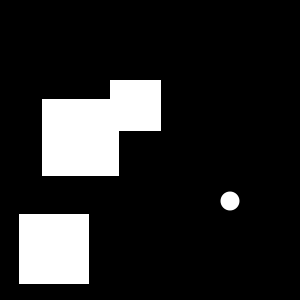circle: (42, 99, 119, 176), (19, 214, 89, 284), (110, 80, 161, 131)
rectangle: (221, 192, 240, 210)
